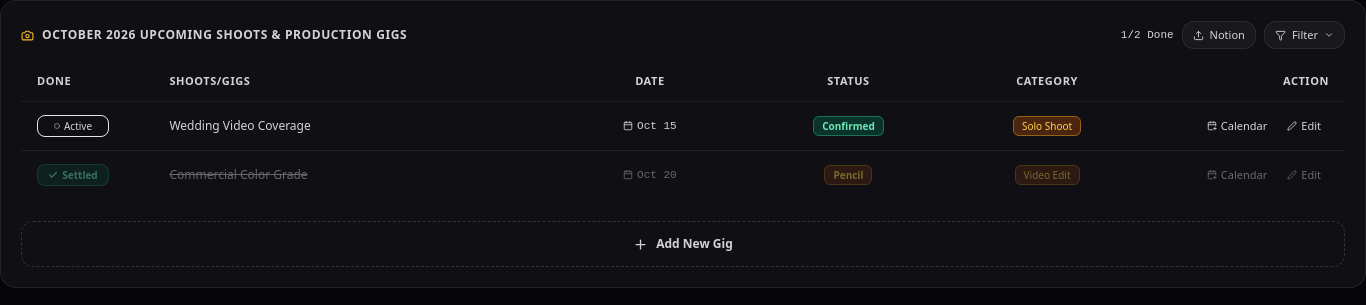
Test case: ShootsTable - Notion Sync Interactions › disables the Notion button and shows spinner while syncing
Click the button with aria-label "Sync to Notion" at (1219, 35), box [1182,21,1256,49]
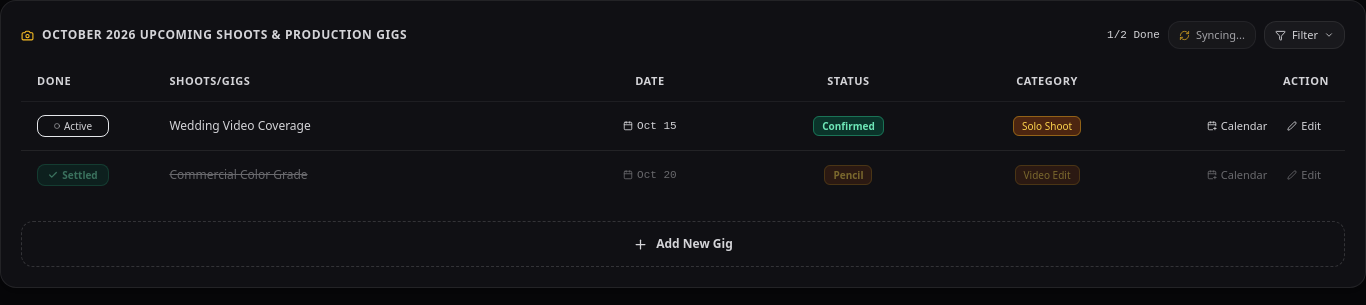
Now the button with aria-label "Sync to Notion" is disabled
Now the button with aria-label "Sync to Notion" reads "Syncing..."
# Clicking again while syncing does not trigger duplicate sync
Click the button with aria-label "Sync to Notion" at (1212, 35), box [1168,21,1256,49]
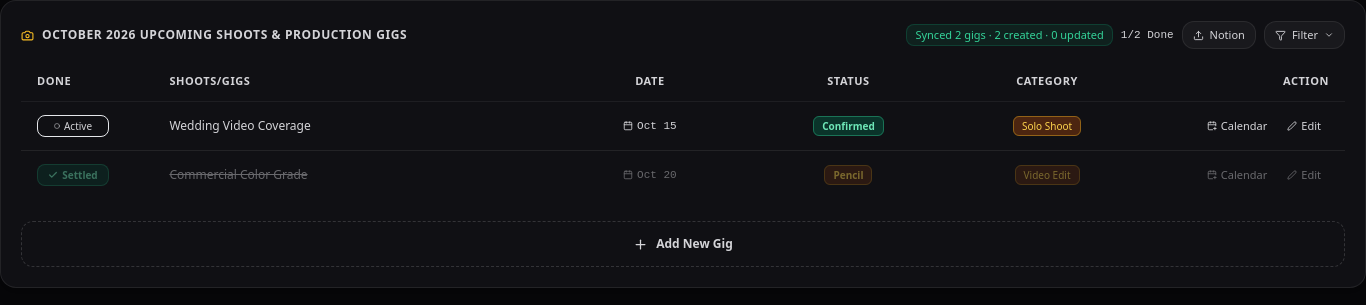
Now the button with aria-label "Sync to Notion" is enabled, box [1182,21,1256,49]
Now the button with aria-label "Sync to Notion" reads "Notion", box [1182,21,1256,49]
